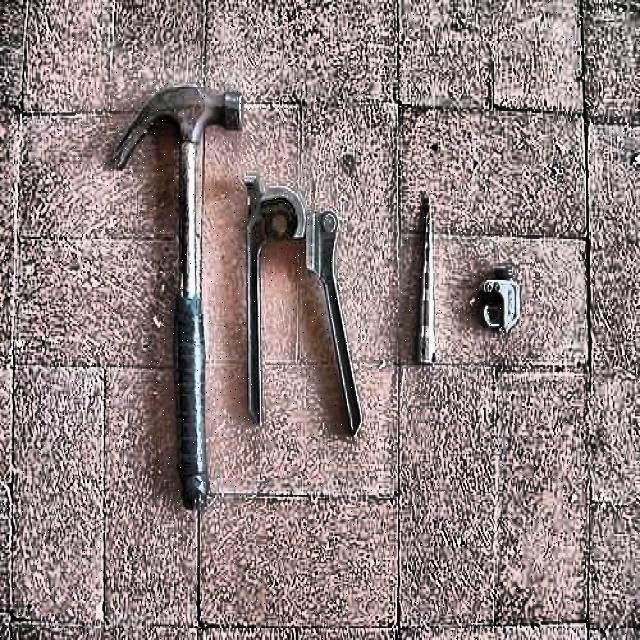hammer: (111, 86, 250, 500)
